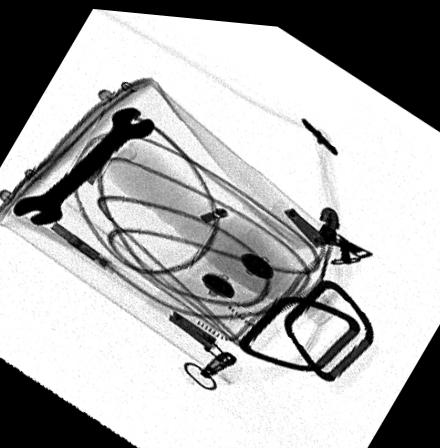Wrench: (12, 106, 157, 223)
